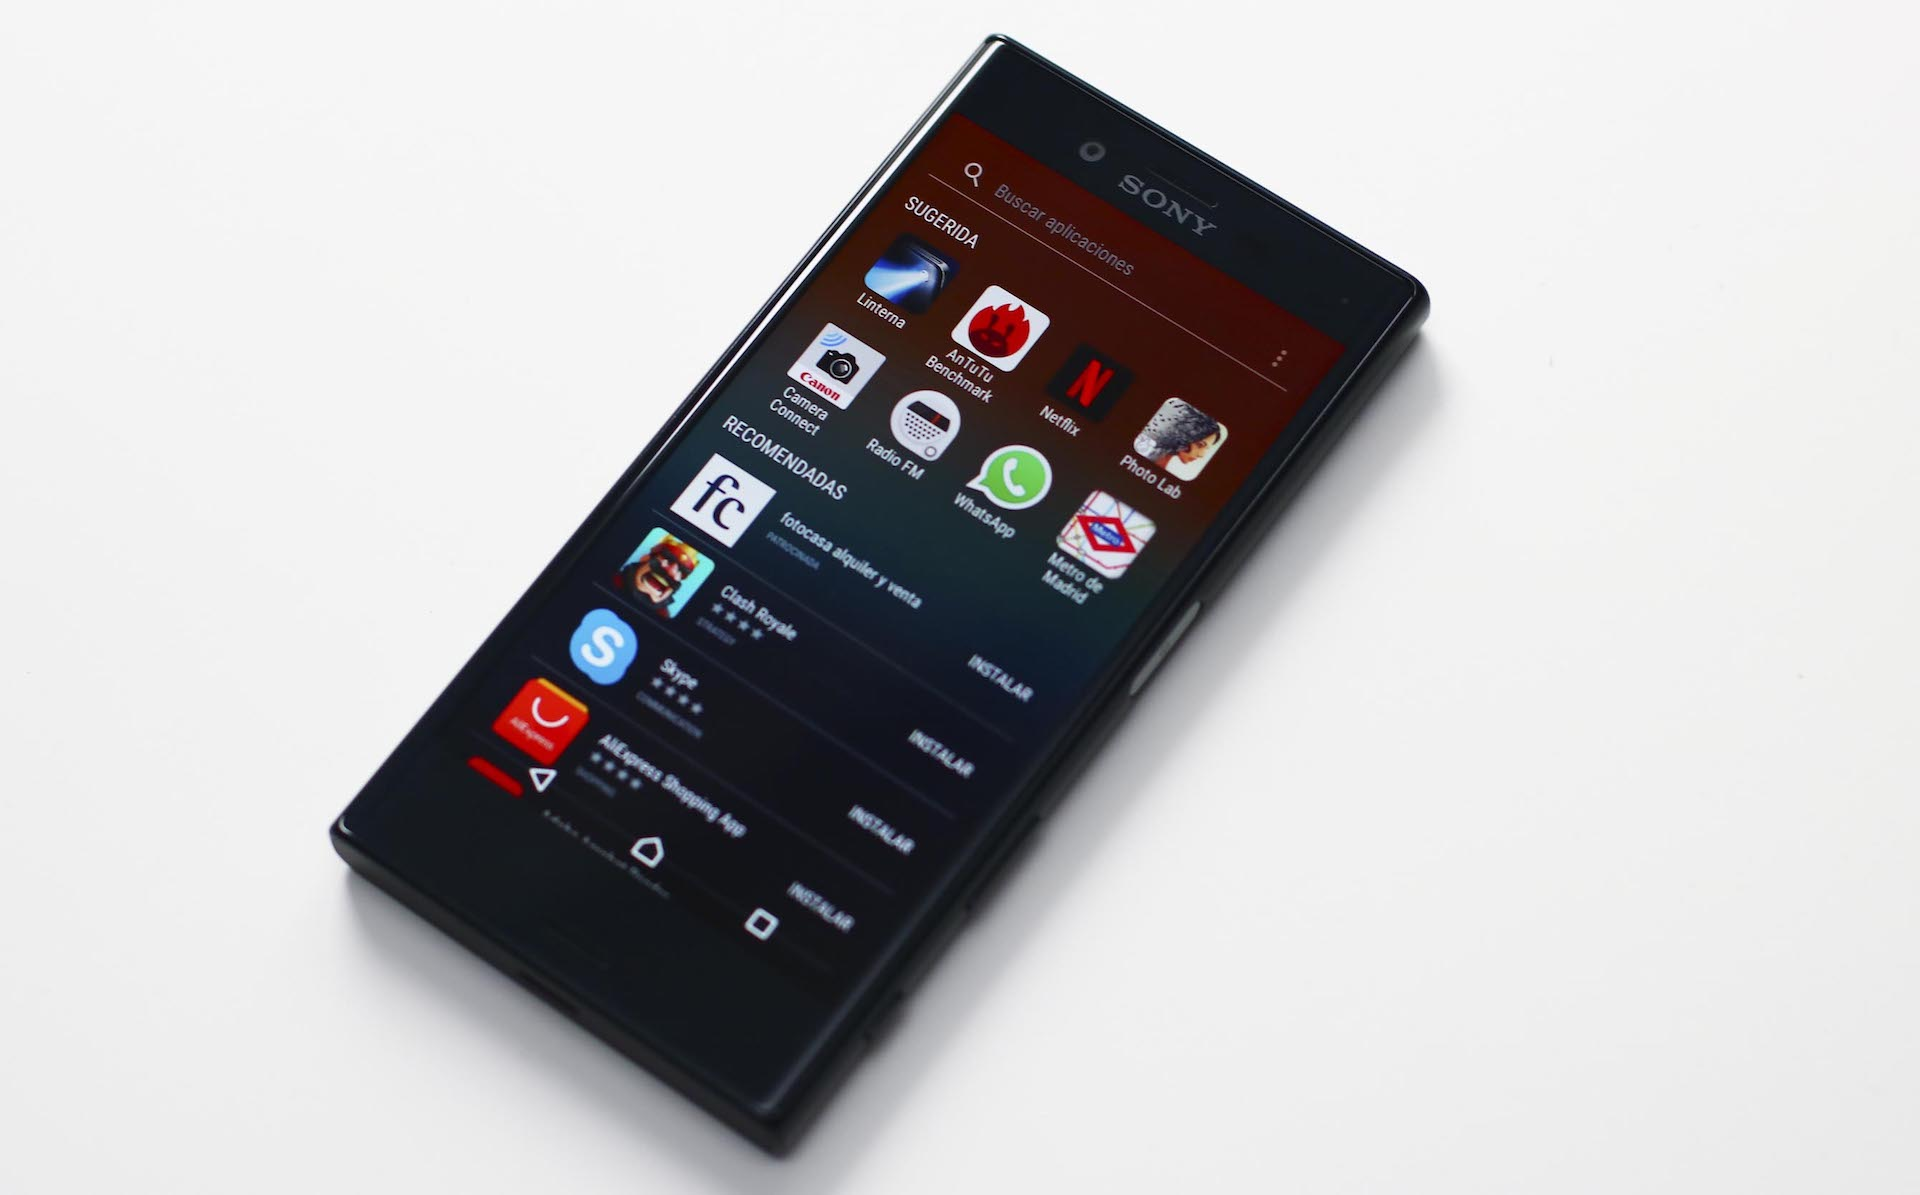smartphone: (326, 29, 1437, 1165)
